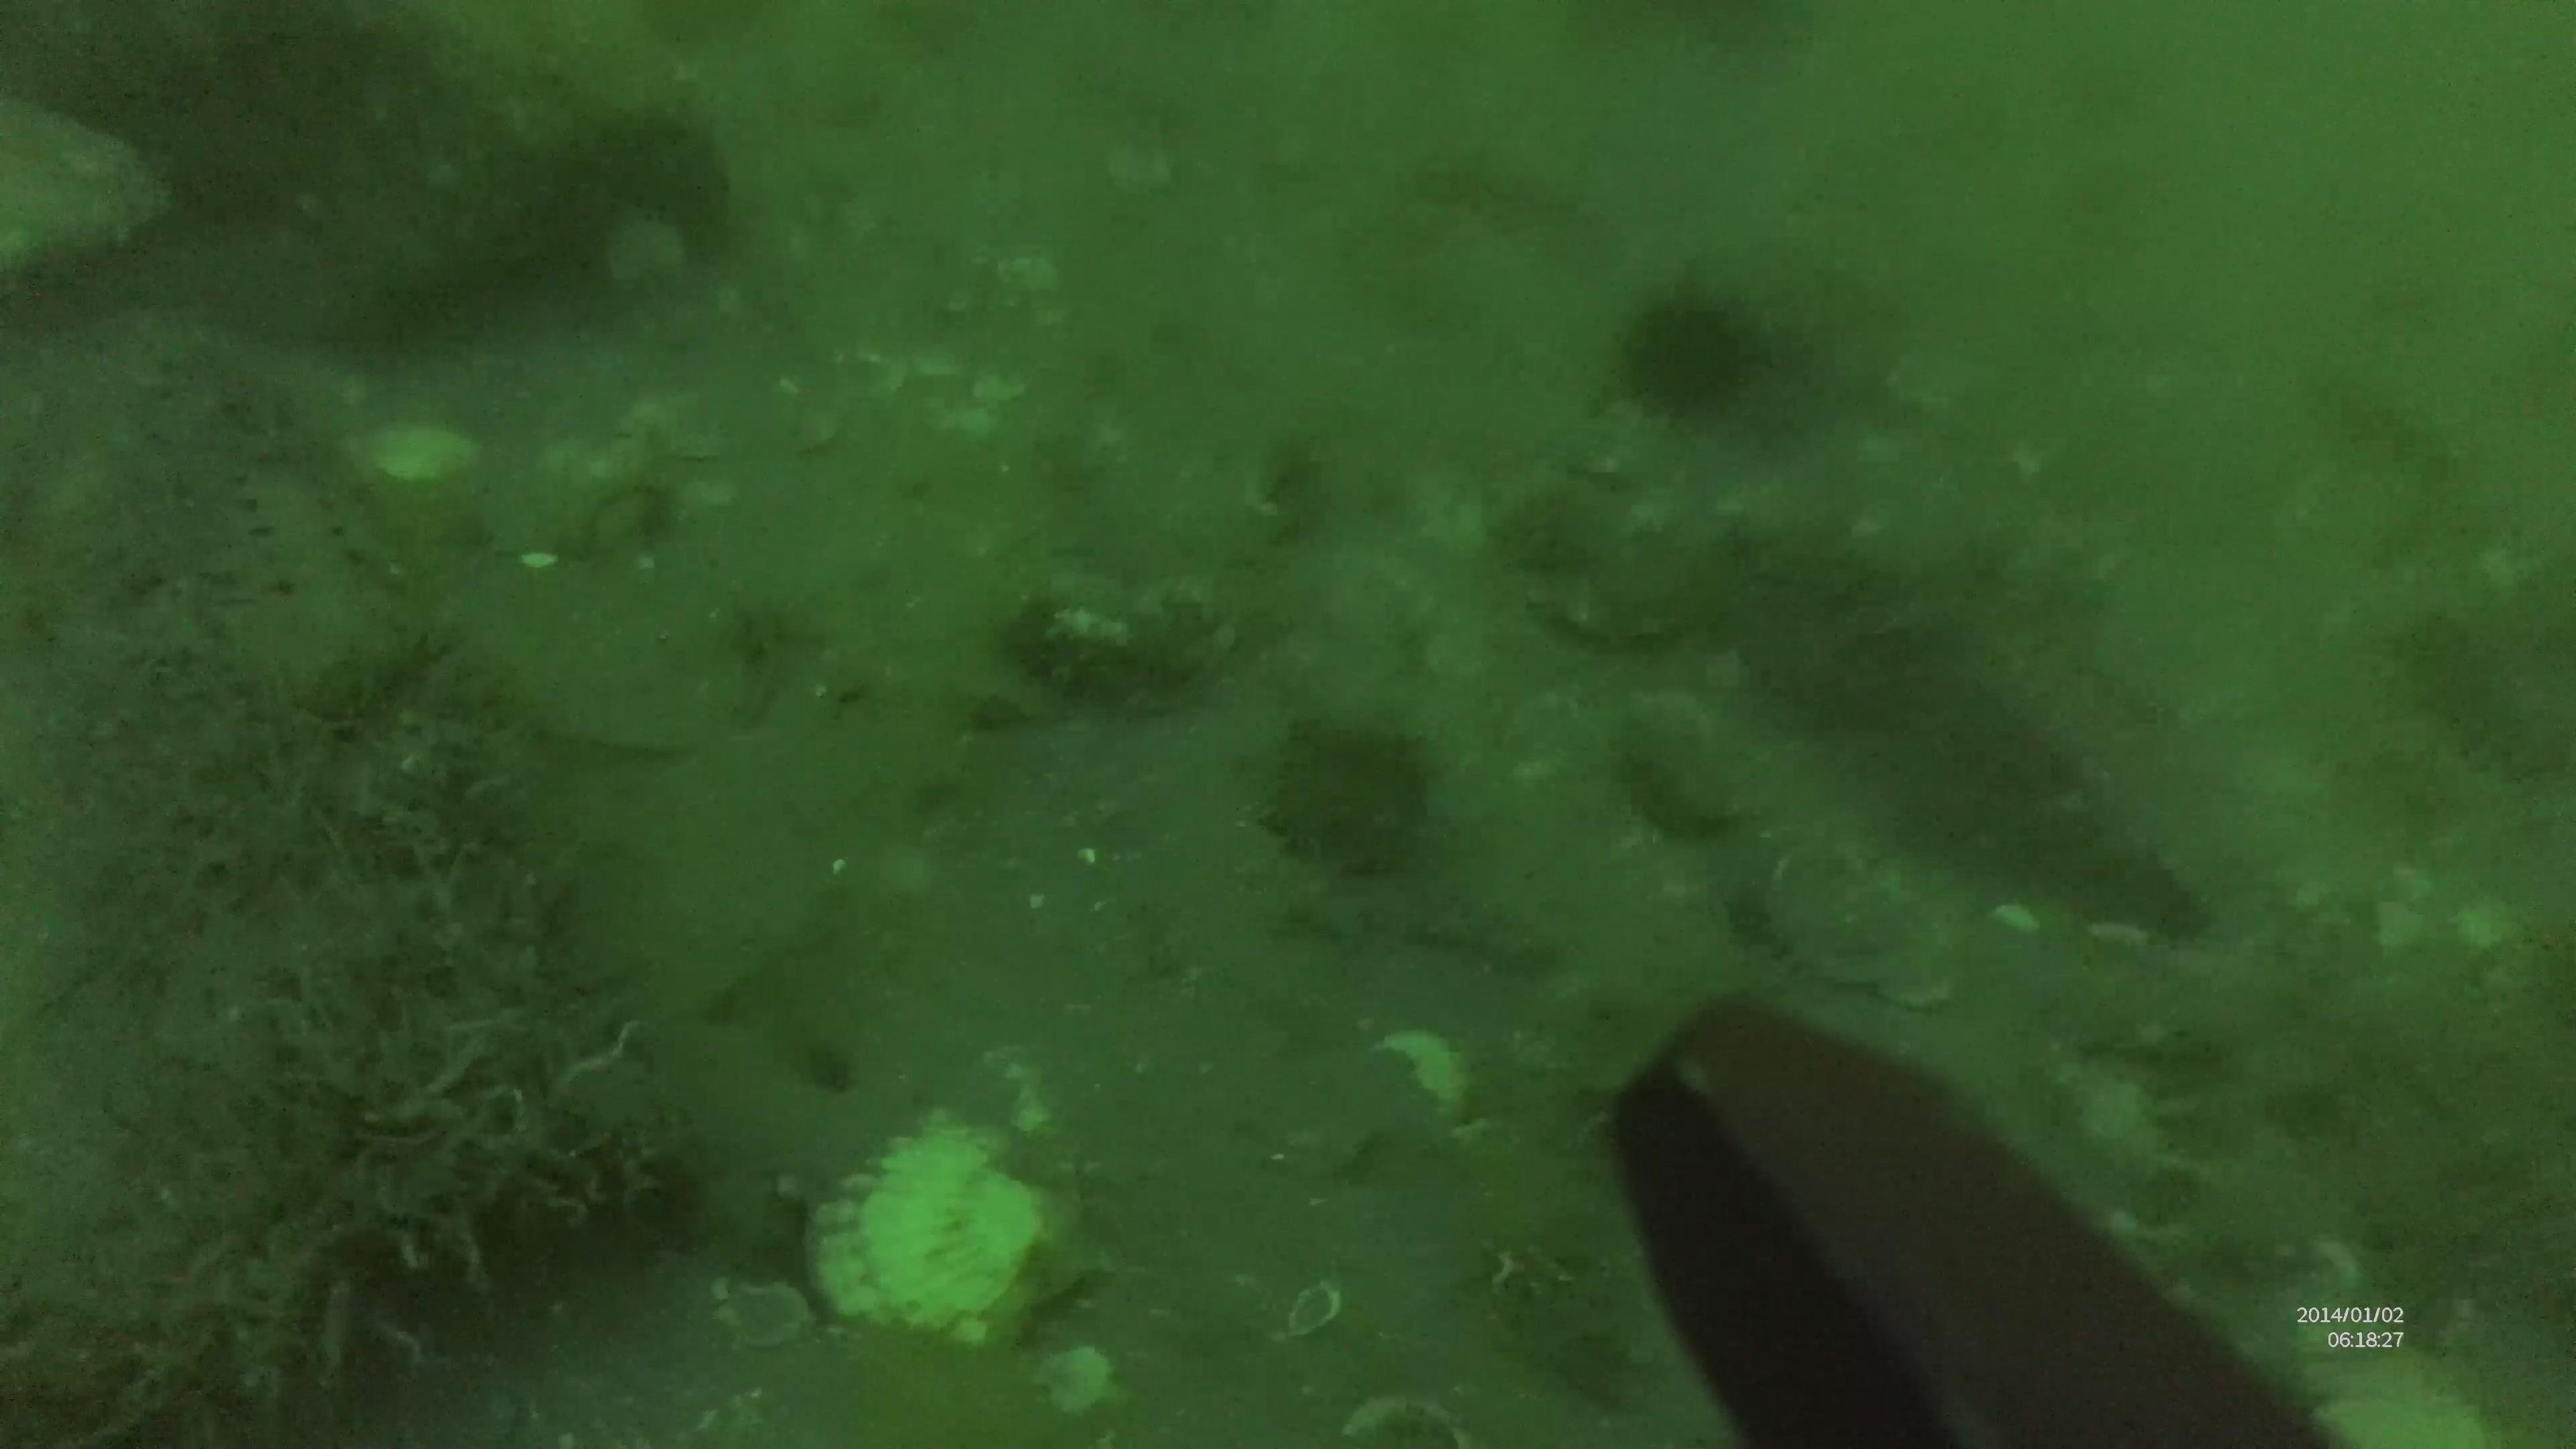echinus: (1605, 280, 1764, 433)
scallop: (789, 1093, 1053, 1332)
